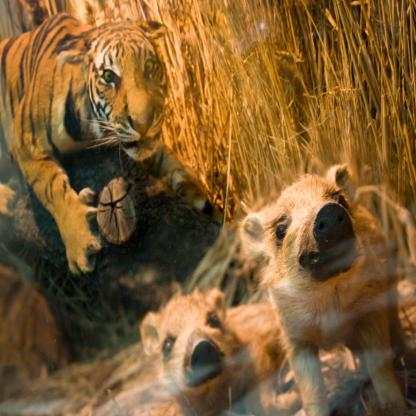tiger: (62, 15, 177, 178)
